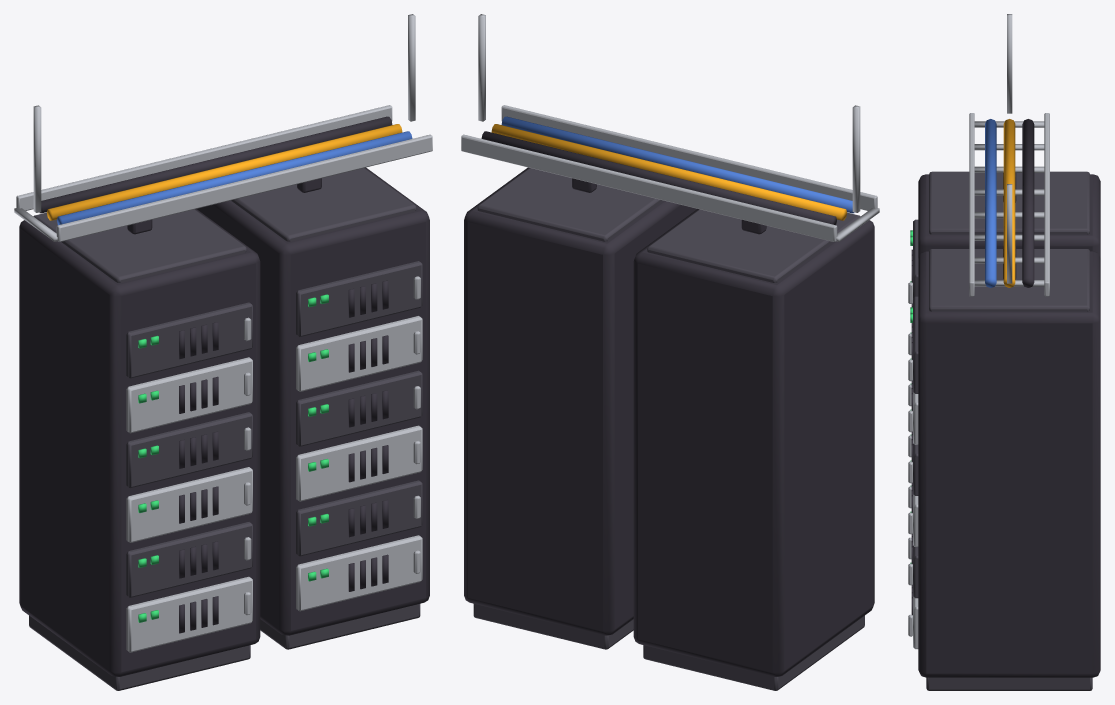
The model's file is server_rack_l2.glb.
3 views of the same model, side by side, from view 1: azimuth 30°, elevation 25°; view 2: azimuth 150°, elevation 25°; view 3: azimuth 270°, elevation 25° (orthographic). The views are drawn at different scales.
Visible parts, largest first — view 1: server_rack_l2; view 2: server_rack_l2; view 3: server_rack_l2.
Part boxes in pixels (x1=…): server_rack_l2: x1=14, y1=14, x2=432, y2=690; server_rack_l2: x1=461, y1=14, x2=879, y2=690; server_rack_l2: x1=908, y1=14, x2=1100, y2=690.
Bounding box in the file's own units: 1.52 × 2.15 × 0.718.
